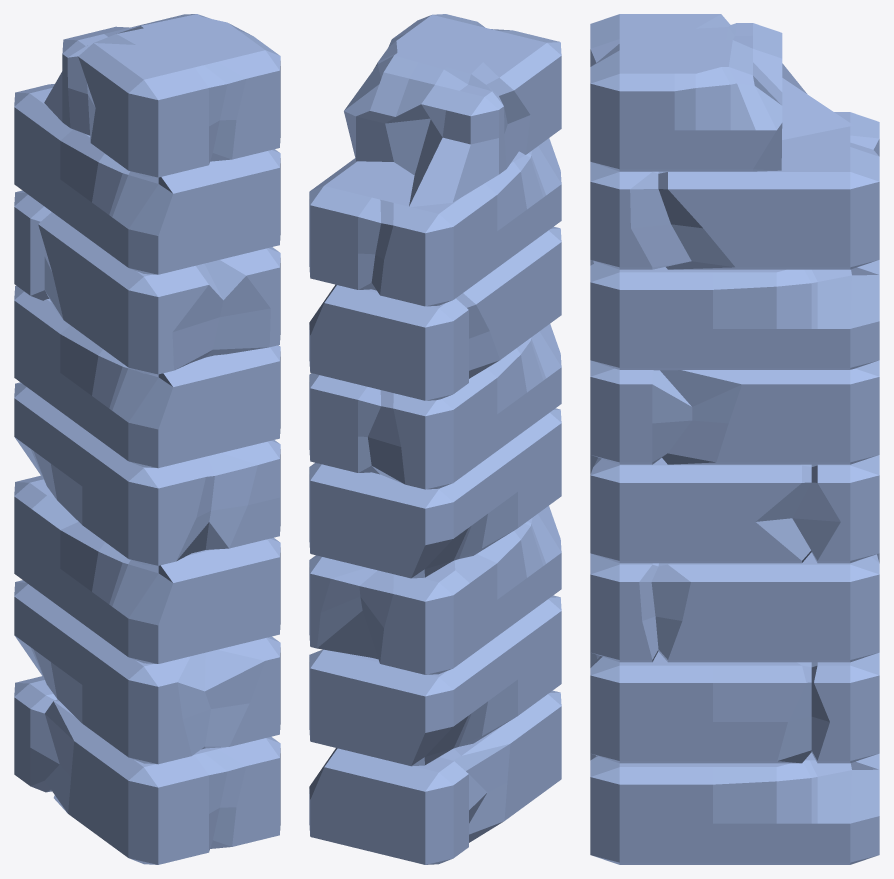
The model's file is Vampire_Assets_Columna.fbx.
The picture shows the model from 3 angles, left to right: view 1: azimuth 30°, elevation 25°; view 2: azimuth 150°, elevation 25°; view 3: azimuth 270°, elevation 25°; orthographic projection. The views are drawn at different scales.
Visible parts, largest first — view 1: Cube.010; view 2: Cube.010; view 3: Cube.010.
Boxes of the visible parts, x1=… form: Cube.010: x1=14, y1=14, x2=280, y2=864; Cube.010: x1=309, y1=14, x2=561, y2=864; Cube.010: x1=590, y1=14, x2=879, y2=864.
Size of the model in its own units: 216 by 1062 by 351.
